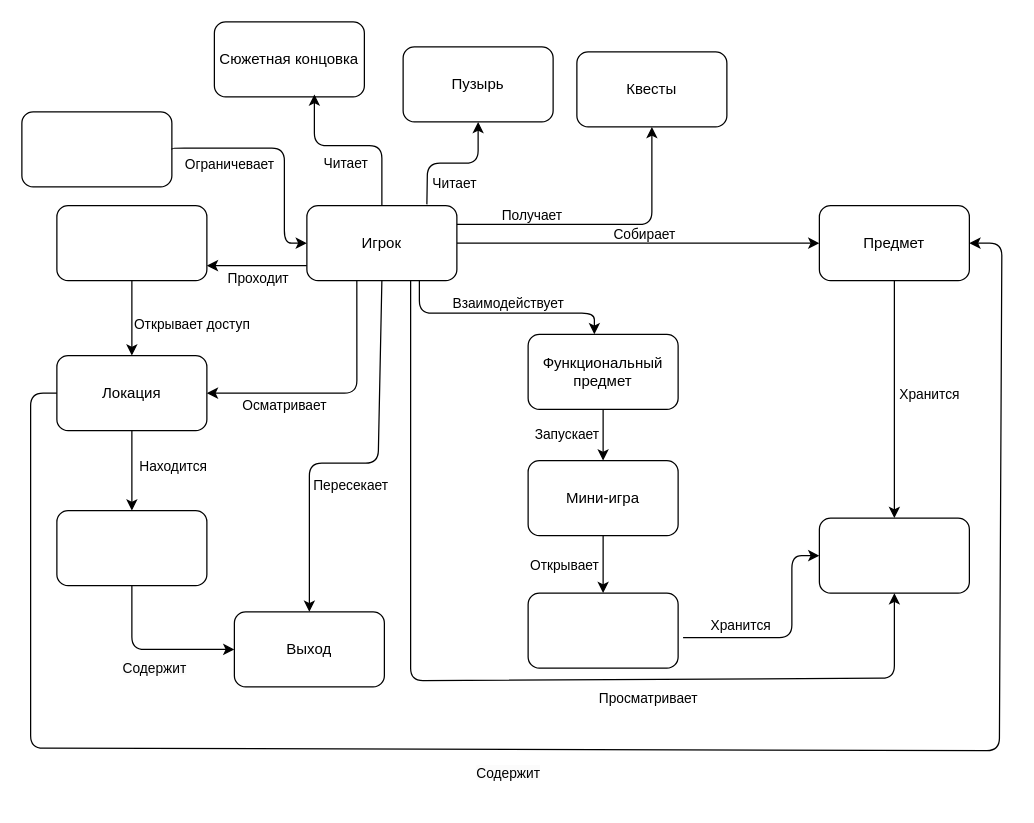
The diagram is 1034 pixels wide and 823 high, and some of its shapes have lost their labels. Here are the shapes that lost their labels. From the top down, the centre of each, then its label:
(96,149): Таймер
(131,242): Дверь
(131,547): Квартира
(893,555): Инвентарь
(602,630): Бонусный предмет
